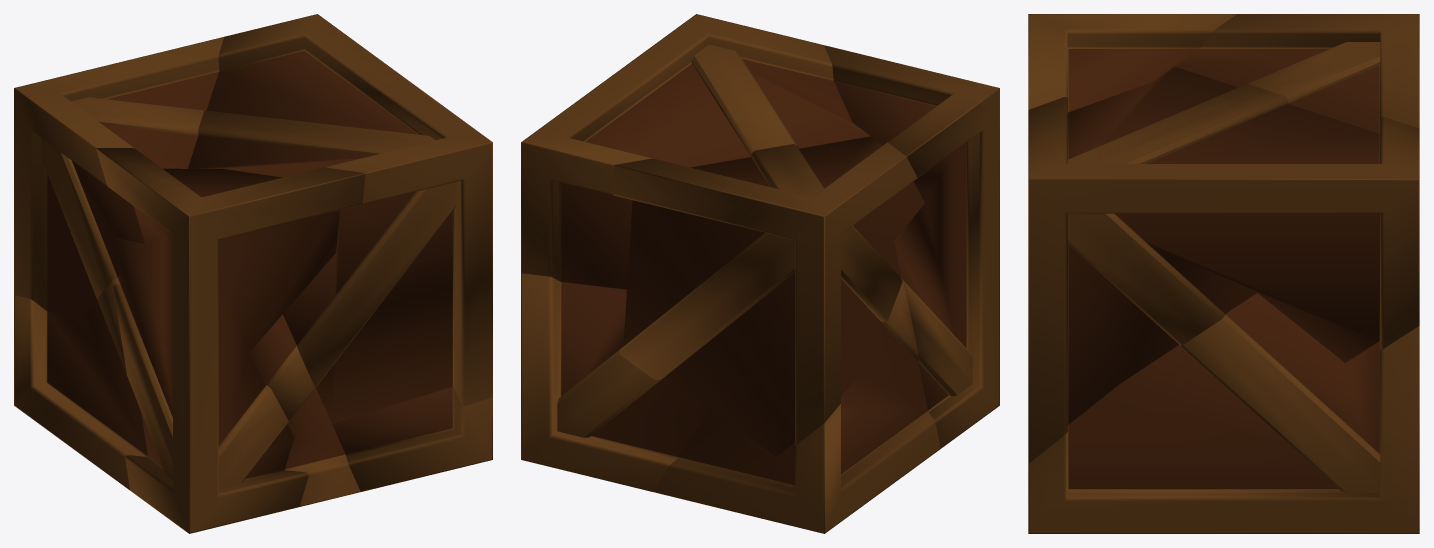
File: brokencrate.fbx
The picture shows the model from 3 angles, left to right: view 1: azimuth 30°, elevation 25°; view 2: azimuth 150°, elevation 25°; view 3: azimuth 270°, elevation 25°; orthographic projection. The views are drawn at different scales.
Visible parts, largest first — view 1: Crate5, Crate1, Crate2, Crate3, Crate4; view 2: Crate2, Crate5, Crate1, Crate3, Crate4; view 3: Crate5, Crate4, Crate2, Crate1.
Boxes of the visible parts, bbox=[...] form: Crate5: bbox=[187, 14, 492, 423]; Crate1: bbox=[96, 148, 365, 533]; Crate2: bbox=[14, 37, 224, 320]; Crate3: bbox=[14, 275, 360, 506]; Crate4: bbox=[332, 386, 492, 491]; Crate2: bbox=[612, 136, 924, 456]; Crate5: bbox=[521, 14, 870, 289]; Crate1: bbox=[824, 45, 999, 448]; Crate3: bbox=[653, 271, 940, 533]; Crate4: bbox=[521, 273, 709, 491]; Crate5: bbox=[1028, 66, 1419, 463]; Crate4: bbox=[1028, 293, 1419, 533]; Crate2: bbox=[1174, 14, 1419, 133]; Crate1: bbox=[1028, 14, 1236, 112].
Bounding box in the file's own units: 161 × 161 × 161.
